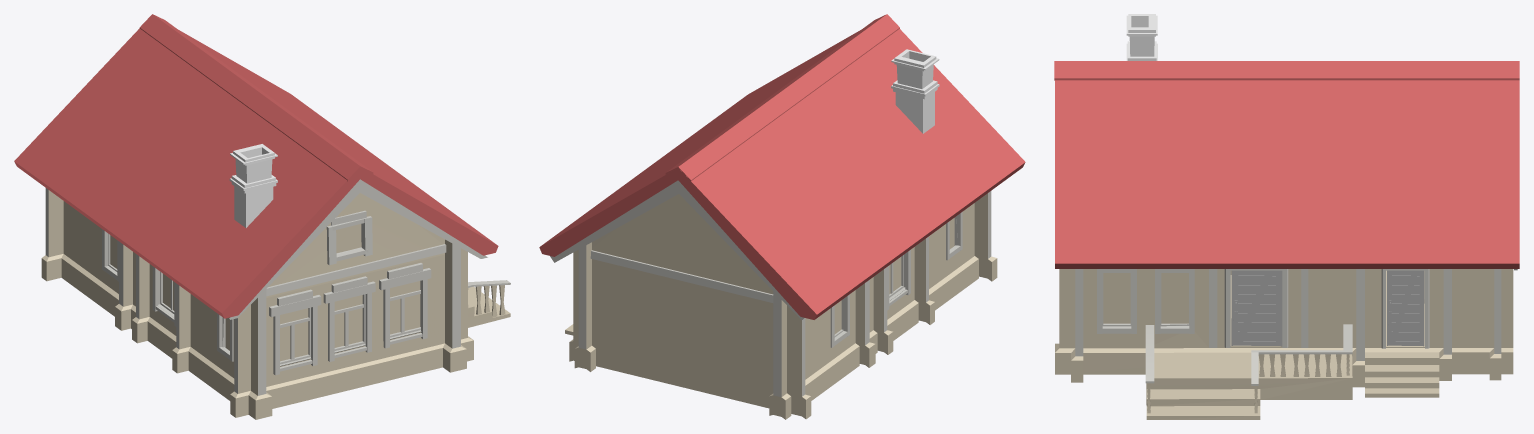
Rendered from house9.fbx.
3 views of the same model, side by side, from view 1: azimuth 30°, elevation 25°; view 2: azimuth 150°, elevation 25°; view 3: azimuth 270°, elevation 25° (orthographic). The views are drawn at different scales.
Parts seen in each view (by area): view 1: house_LOD0; view 2: house_LOD0; view 3: house_LOD0, door_LOD0.
Part boxes in pixels (box(x1,y1,x2,y2)): house_LOD0: box(14, 14, 510, 419); house_LOD0: box(539, 14, 1025, 419); house_LOD0: box(1054, 14, 1519, 419); door_LOD0: box(1231, 270, 1424, 346).
Size of what is drawn, in the model's own units: 514 by 340 by 557.
